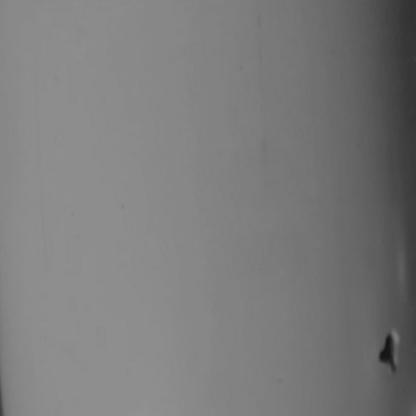kongdong: (369, 326, 407, 383)
